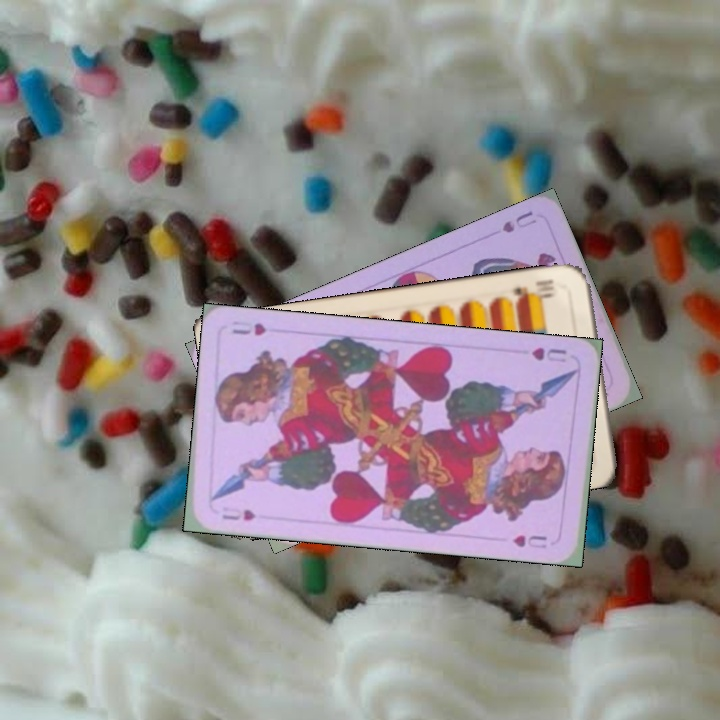E10: (508, 275, 557, 304)
HU: (527, 343, 569, 365), (217, 505, 259, 523)
SU: (498, 206, 539, 236)
